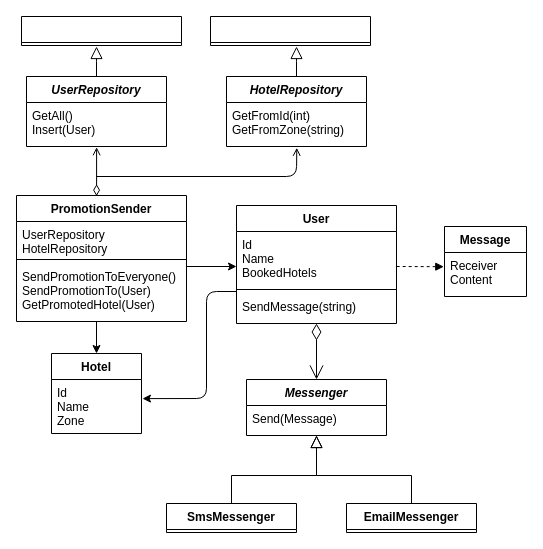
The diagram is 543 pixels wide and 549 high, and some of its shapes have lost their labels. Each missing label, with the centre of its shape:
"InMemoryHotelRepository" belongs at pixel 290 31.
"InMemoryUserRepository" belongs at pixel 101 31.
